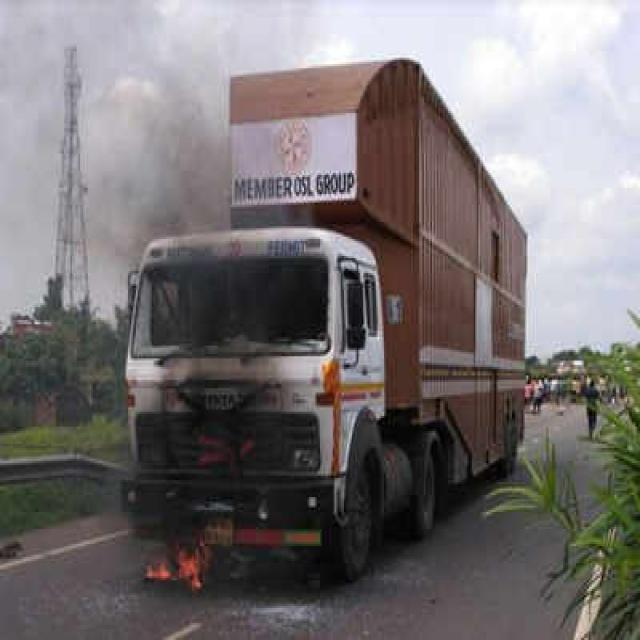accident: (130, 60, 525, 584)
